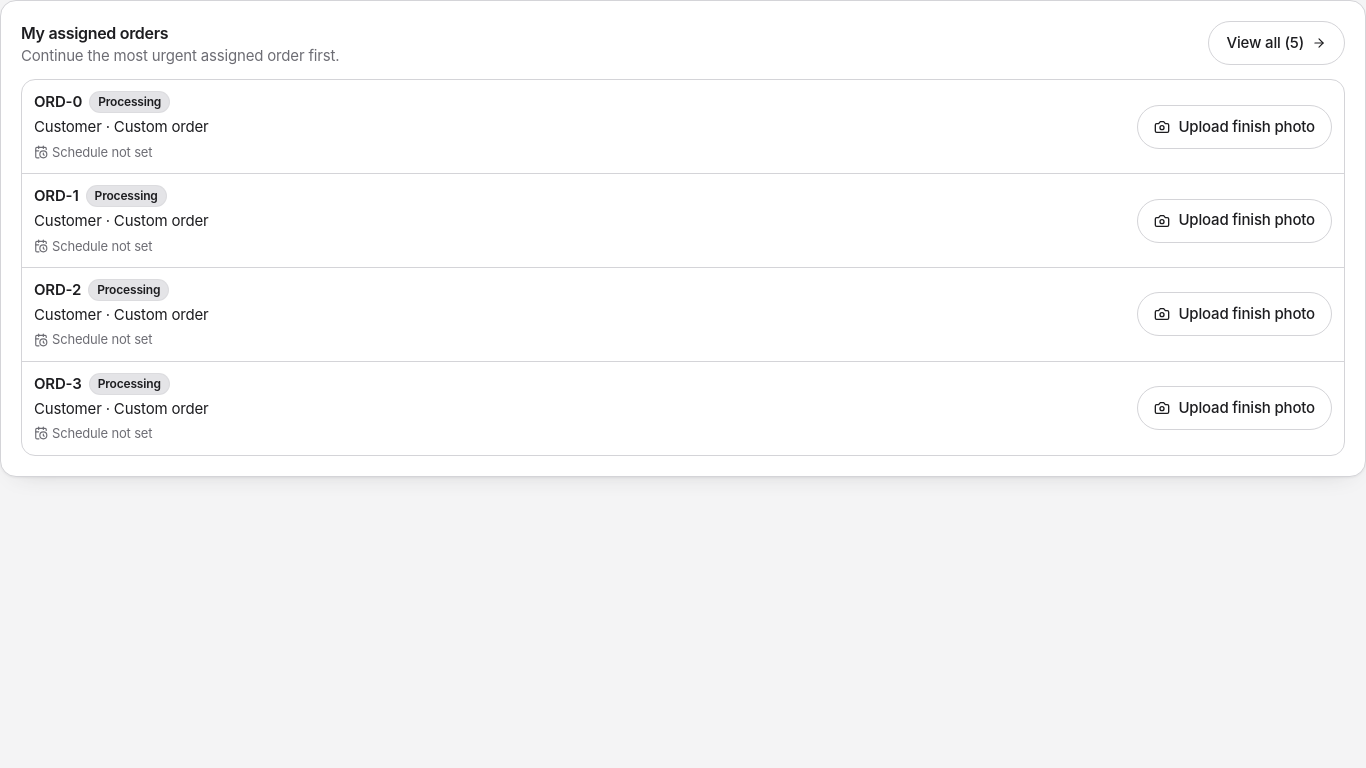
Test case: misleading UI cleanup › expands assigned florist orders in place instead of navigating to a blocked workspace
This screenshot has width=1366, height=768.
expect the text "ORD-4" is not shown: met
What coordinates should you click on to do the following:
click the button "View all (5)"
I would click on:
 (1276, 43)
Its box is [1208,21,1345,65].
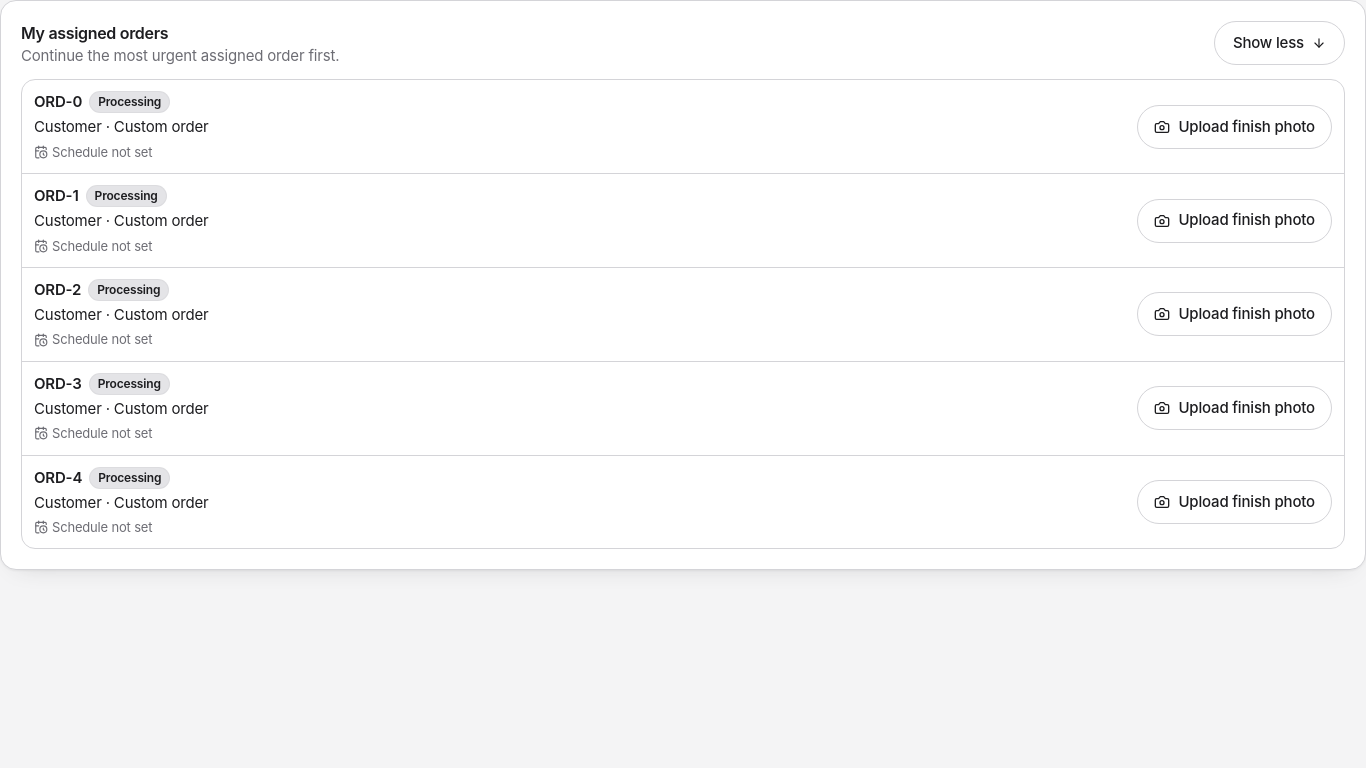
expect the text "ORD-4" is shown: met, box [34,468,82,488]
expect the button "Show less" is shown: met, box [1214,21,1345,65]
